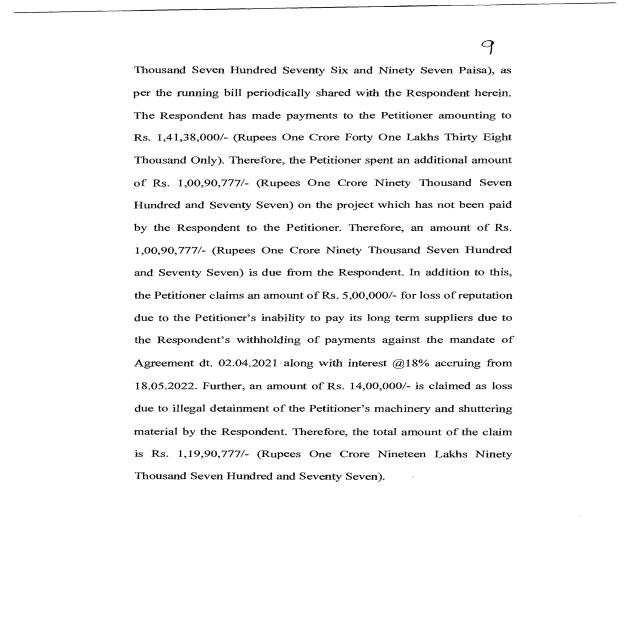page-number: (398, 17, 640, 62)
